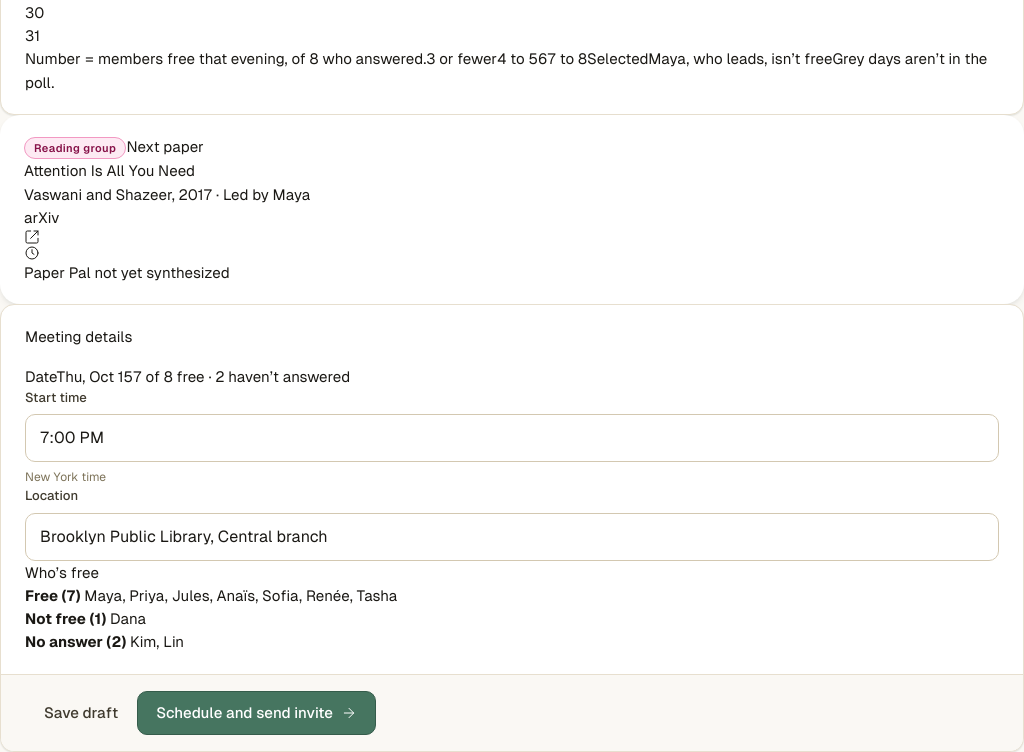
SchedulePage › schedules the picked evening with the typed time and venue, then shows the result
(page scrolled)
Replace the text in the field labelled "Start time" with "7:30 PM" at (512, 438), box [25,414,999,462]
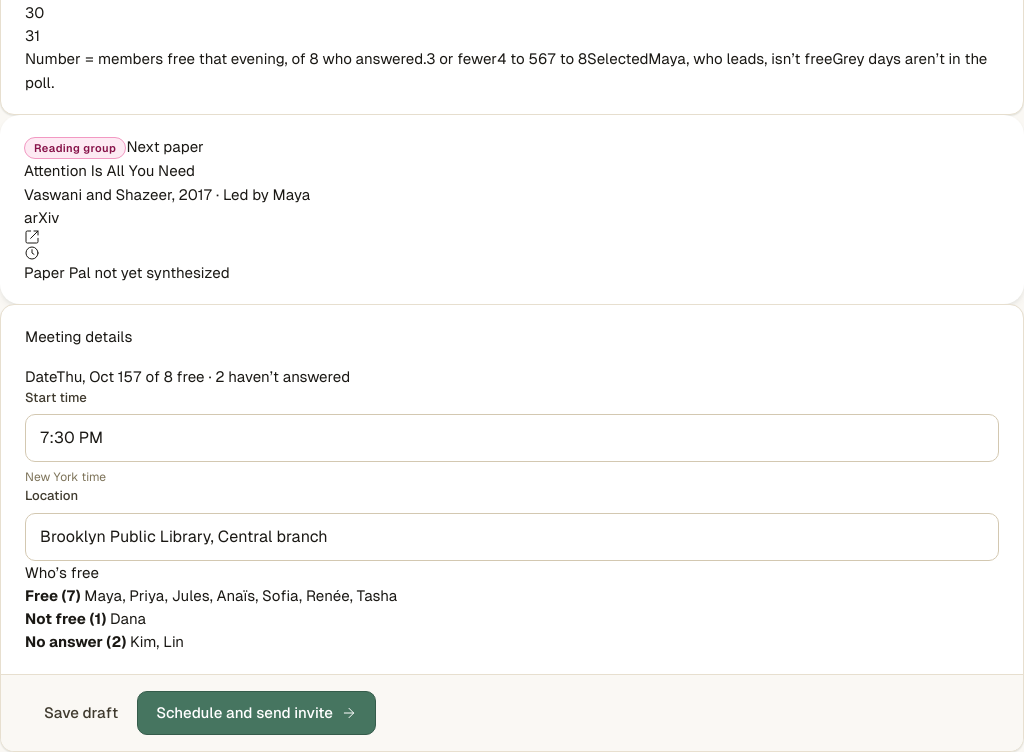
Click the button "Schedule and send invite".
click(257, 713)  # box [137,691,376,735]
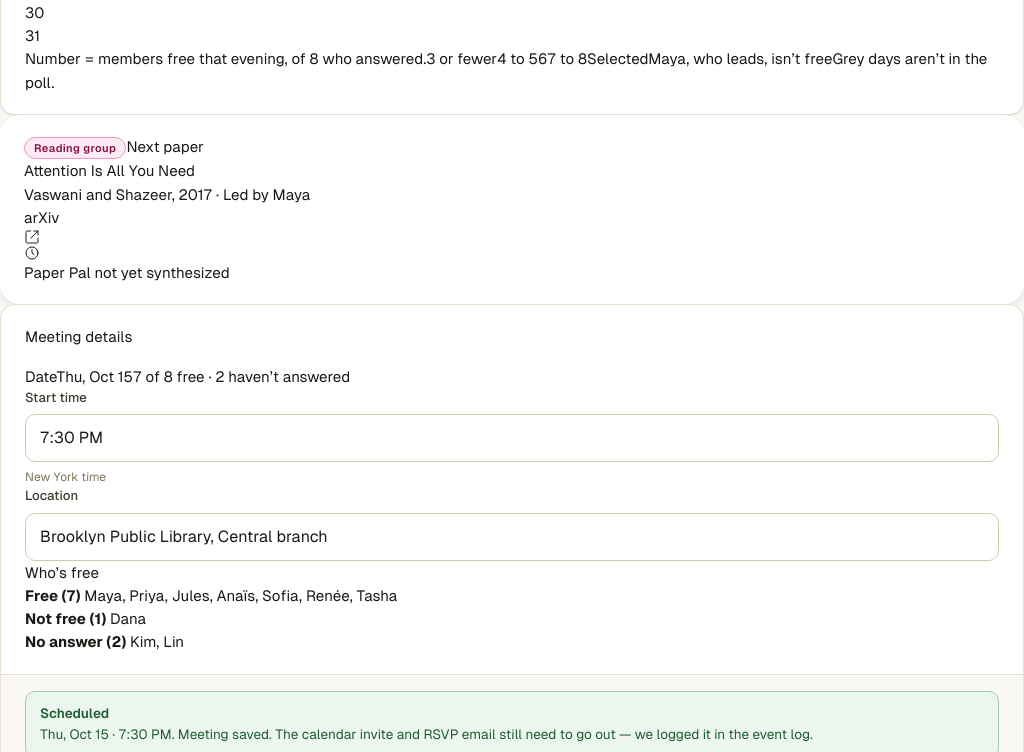
expect the text "Scheduled" is shown: met, box [40,706,109,721]
expect the text "Thu, Oct 15 · 7:30 PM" is shown: met, box [40,706,813,742]
expect the text "still need to go out" is shown: met, box [178,727,752,742]
